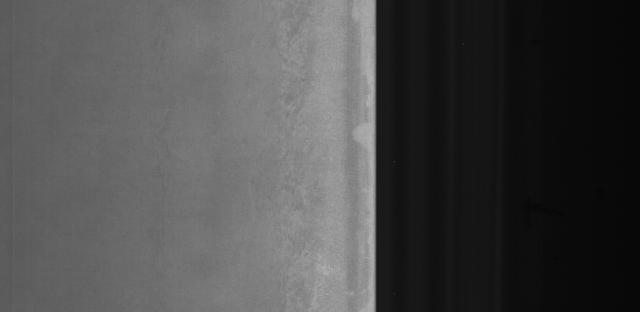silk_spot: (243, 0, 320, 274)
